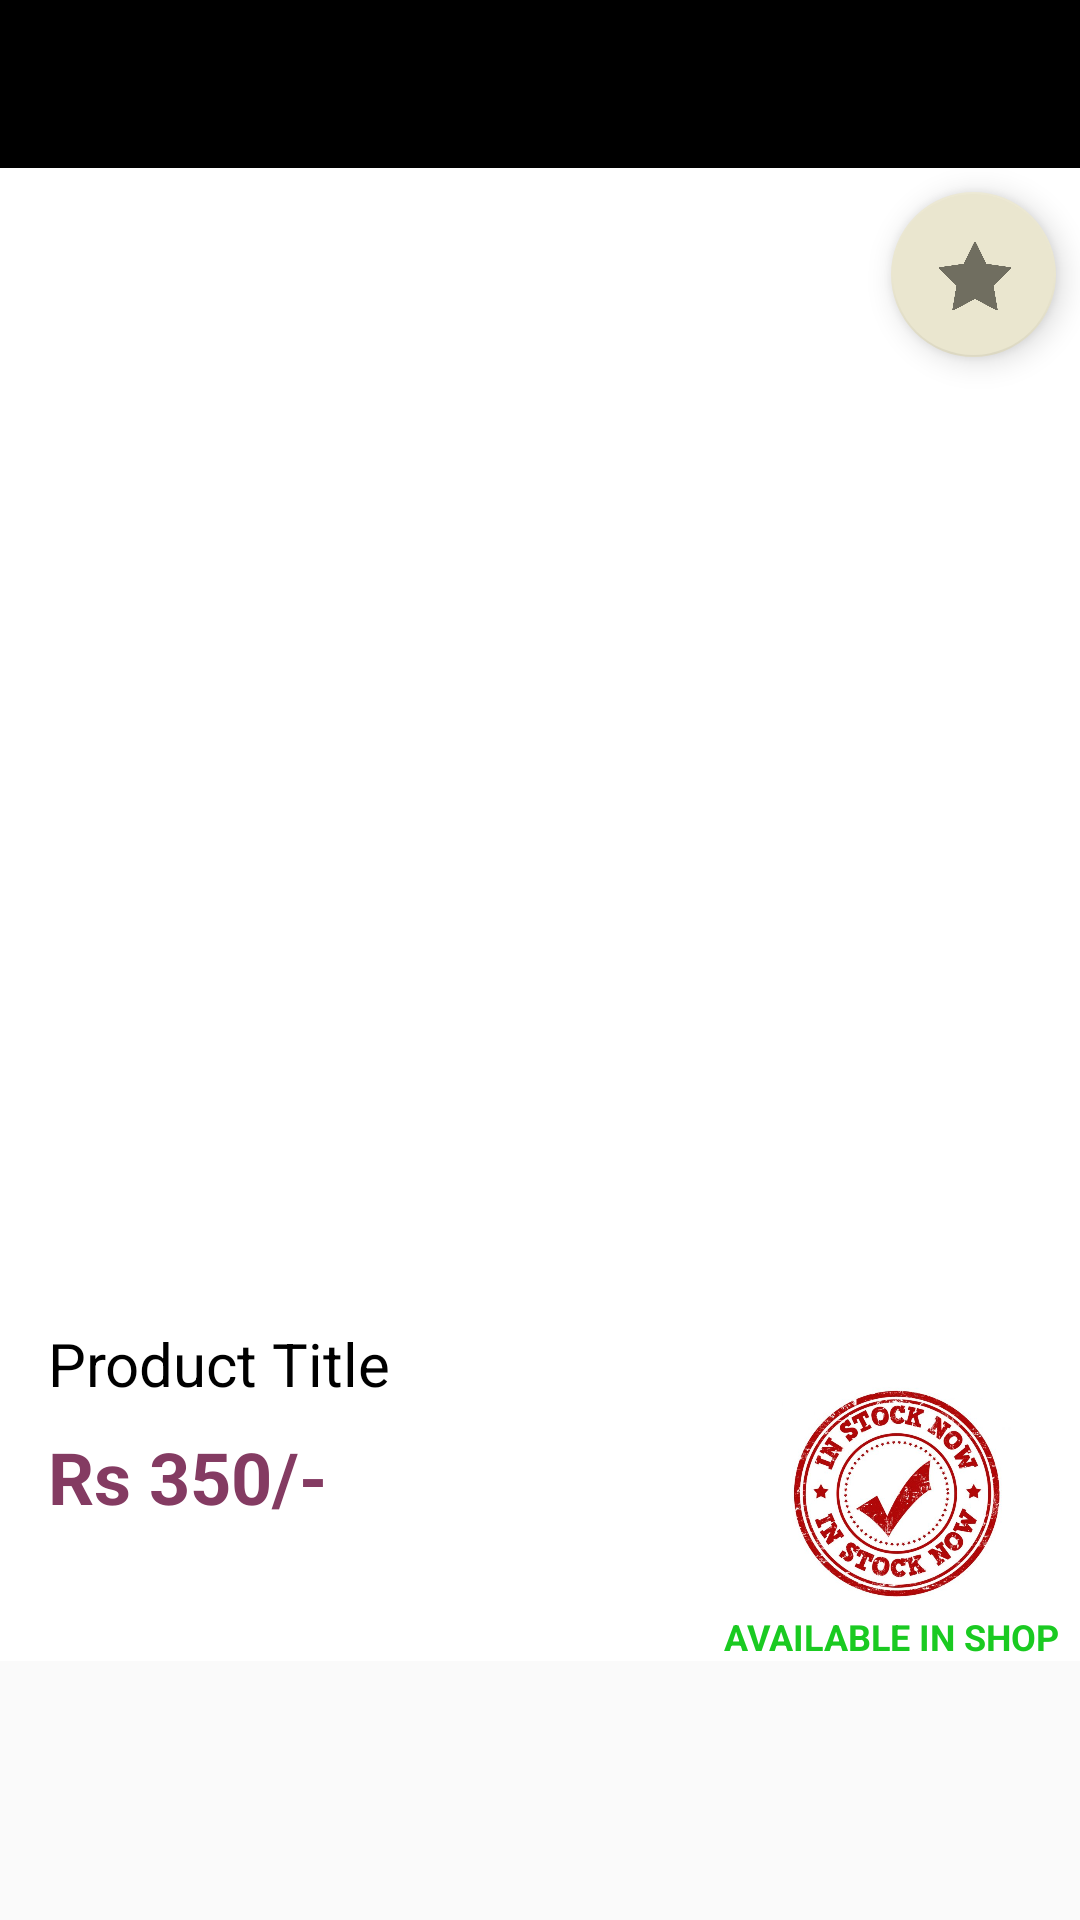

Screen size 1080×1920. Icon name, then its center in pixels as (x=x, y=y):
star: (x=973, y=274)
